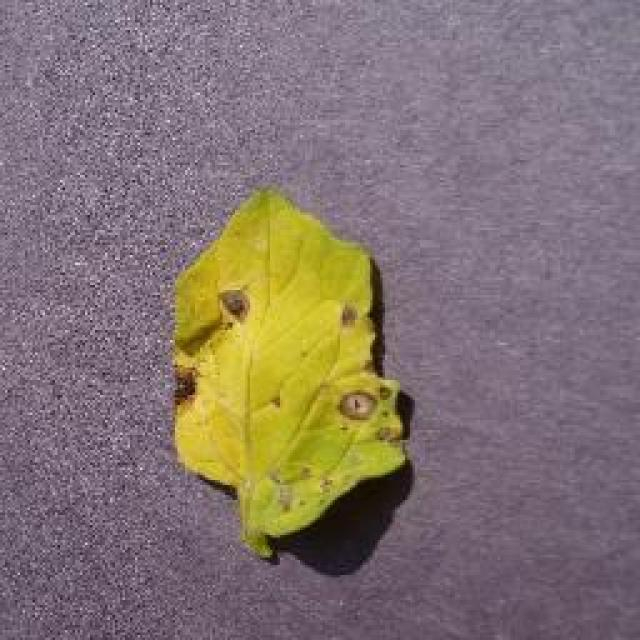Tomato target spot leaf: (174, 182, 411, 556)
